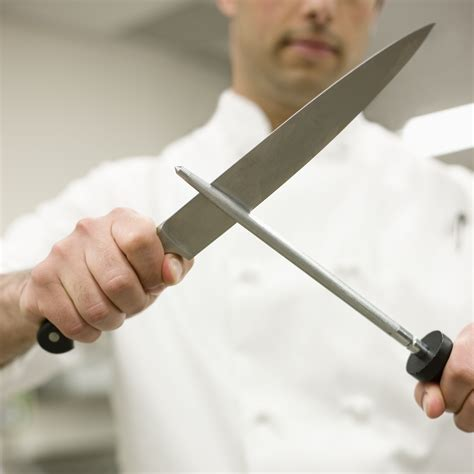knife: (37, 19, 435, 356)
